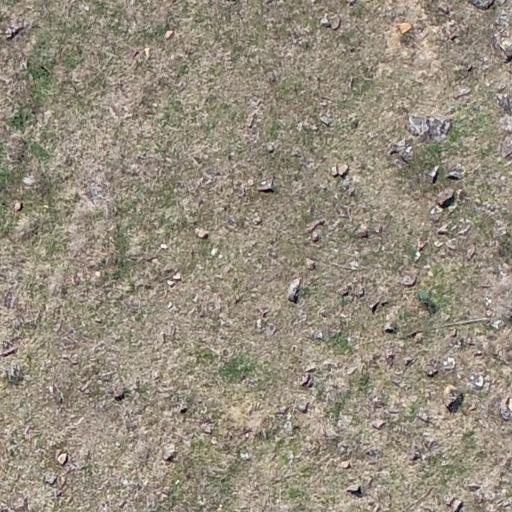stone: (301, 221, 331, 244), (388, 137, 414, 163), (491, 31, 512, 62), (340, 282, 366, 303), (3, 362, 24, 384), (4, 22, 27, 41), (326, 162, 353, 178), (286, 278, 302, 303), (436, 188, 456, 208), (48, 383, 66, 405), (495, 93, 512, 115), (299, 256, 322, 272), (499, 395, 512, 421), (305, 218, 325, 234), (444, 20, 460, 40), (468, 373, 485, 391), (446, 496, 464, 512), (369, 299, 388, 314), (410, 442, 423, 462), (337, 205, 353, 221), (324, 424, 340, 440), (496, 12, 512, 28), (257, 180, 275, 194), (0, 344, 18, 358), (342, 179, 356, 197), (301, 118, 319, 132), (446, 169, 471, 179), (162, 445, 177, 461), (452, 88, 472, 100), (262, 323, 277, 339), (299, 372, 313, 388), (328, 14, 342, 30), (56, 450, 70, 466), (107, 105, 120, 122), (427, 165, 439, 183), (246, 111, 258, 129), (402, 330, 424, 339), (395, 23, 413, 34), (44, 472, 58, 486), (428, 208, 442, 222), (457, 222, 471, 236), (194, 227, 210, 239), (401, 274, 417, 286), (442, 357, 456, 370), (345, 364, 359, 377), (371, 418, 386, 430), (356, 226, 370, 238), (319, 115, 333, 127), (319, 14, 331, 28), (266, 70, 278, 84), (338, 285, 352, 297), (437, 4, 451, 16), (346, 484, 362, 494), (385, 352, 395, 368), (200, 422, 213, 434), (417, 240, 429, 253), (113, 389, 126, 401), (416, 413, 430, 424), (22, 175, 36, 186), (466, 245, 476, 260), (384, 322, 396, 334), (297, 401, 309, 413), (366, 448, 380, 458), (437, 224, 449, 235), (13, 201, 24, 213), (304, 364, 317, 374), (348, 260, 360, 270), (339, 460, 351, 470), (491, 320, 503, 330), (350, 118, 360, 130), (467, 484, 481, 492), (414, 332, 424, 343), (240, 451, 251, 461), (226, 217, 236, 228), (426, 368, 438, 377), (19, 60, 28, 72), (266, 142, 276, 152), (404, 357, 414, 367), (374, 224, 384, 234), (164, 30, 174, 40), (254, 214, 262, 225), (433, 240, 444, 248), (179, 405, 188, 414), (172, 273, 182, 281), (132, 49, 140, 59), (210, 247, 218, 257), (466, 64, 474, 73), (474, 350, 483, 358), (166, 279, 175, 287), (246, 178, 254, 186), (316, 331, 324, 339), (94, 270, 102, 278), (160, 244, 168, 250)
